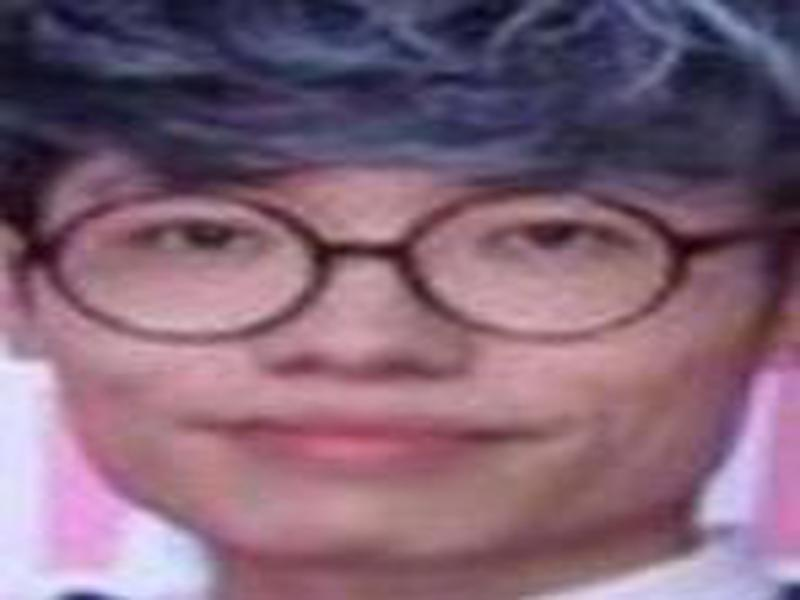without_mask: (42, 138, 753, 580)
